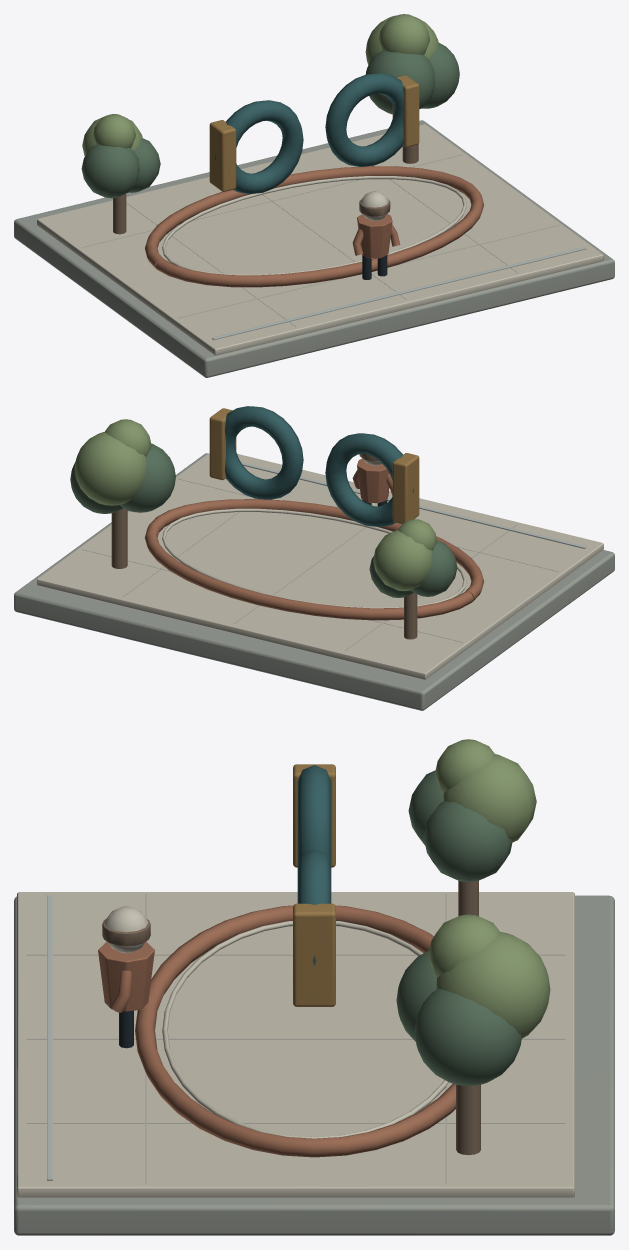
Rendered from idea-1b175b16.glb.
3 views of the same model, one above another, from view 1: azimuth 30°, elevation 25°; view 2: azimuth 150°, elevation 25°; view 3: azimuth 270°, elevation 25° (orthographic). The views are drawn at different scales.
Visible parts, largest first — view 1: Smoking Freedom; view 2: Smoking Freedom; view 3: Smoking Freedom.
Part boxes in pixels (<box>): Smoking Freedom: <box>14,14,614,377</box>; Smoking Freedom: <box>14,406,614,710</box>; Smoking Freedom: <box>14,739,614,1235</box>.
Size of the model in its own units: 4.8 by 1.93 by 3.9.
